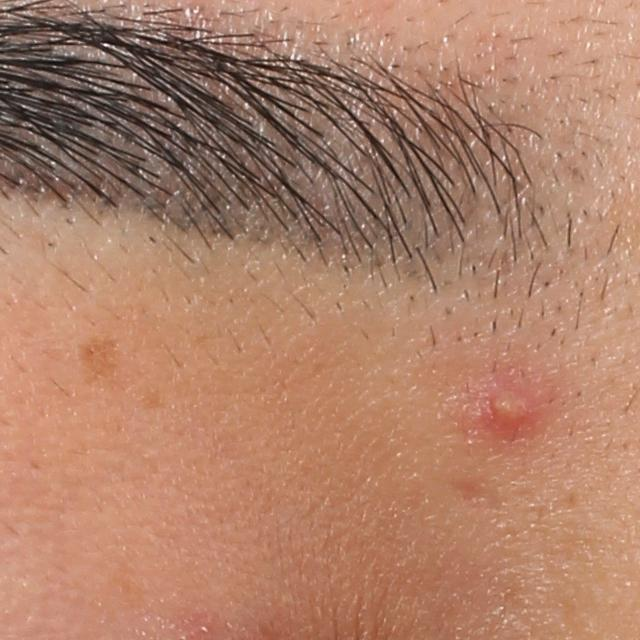melasma: (73, 330, 125, 391)
